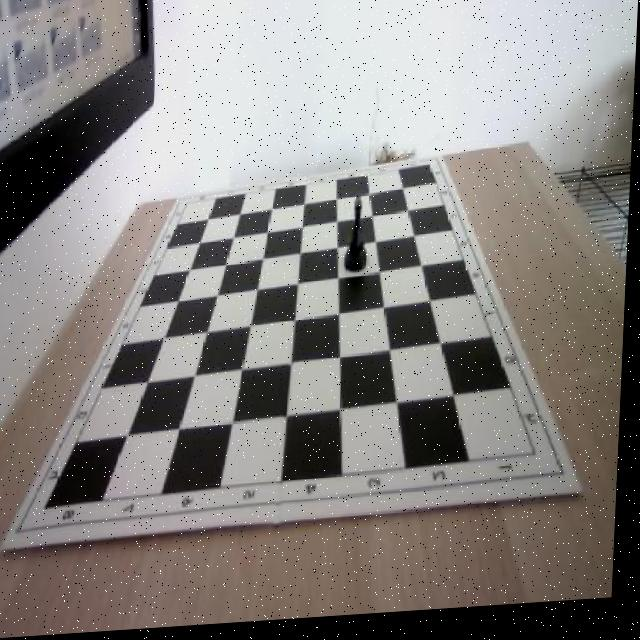black-king: (343, 200, 374, 276)
